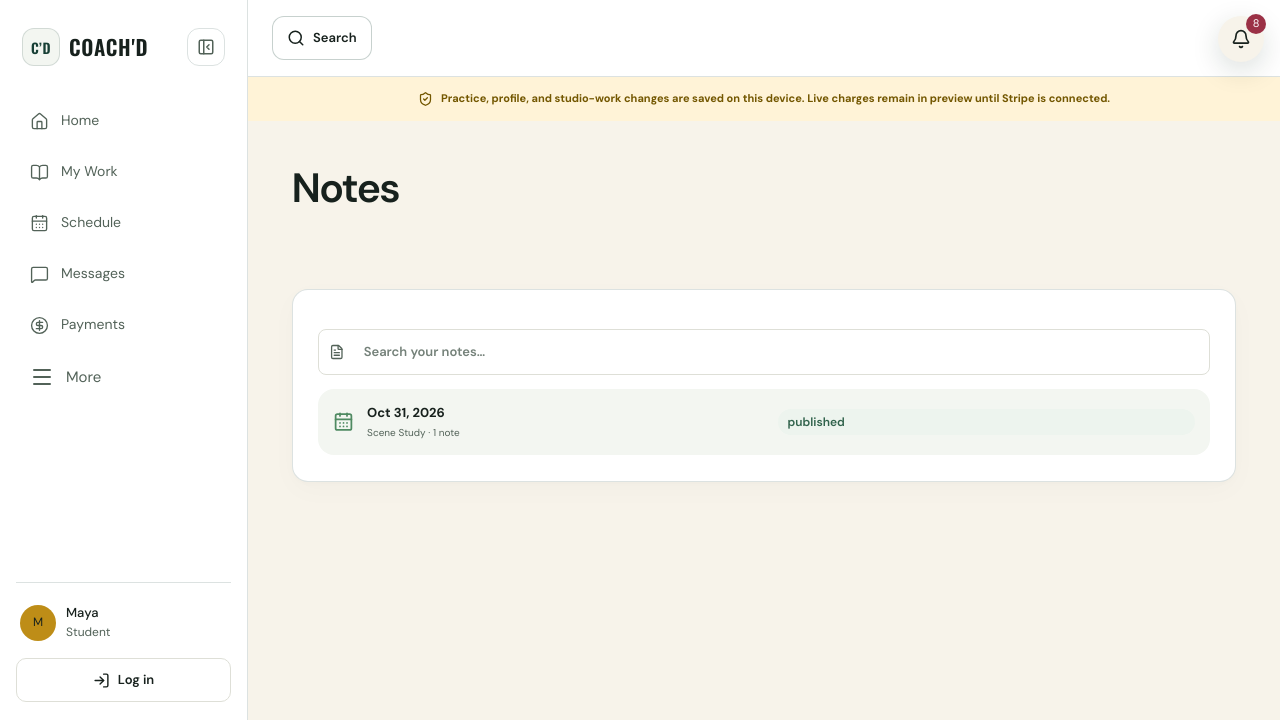
Test: content disclosure and decision context › shows the complete note immediately in a requested note dialog
The image size is (1280, 720).
Click the button "Oct 31, 2026 Scene Study · 1 note published" at (406, 413), box [318,389,1210,455]
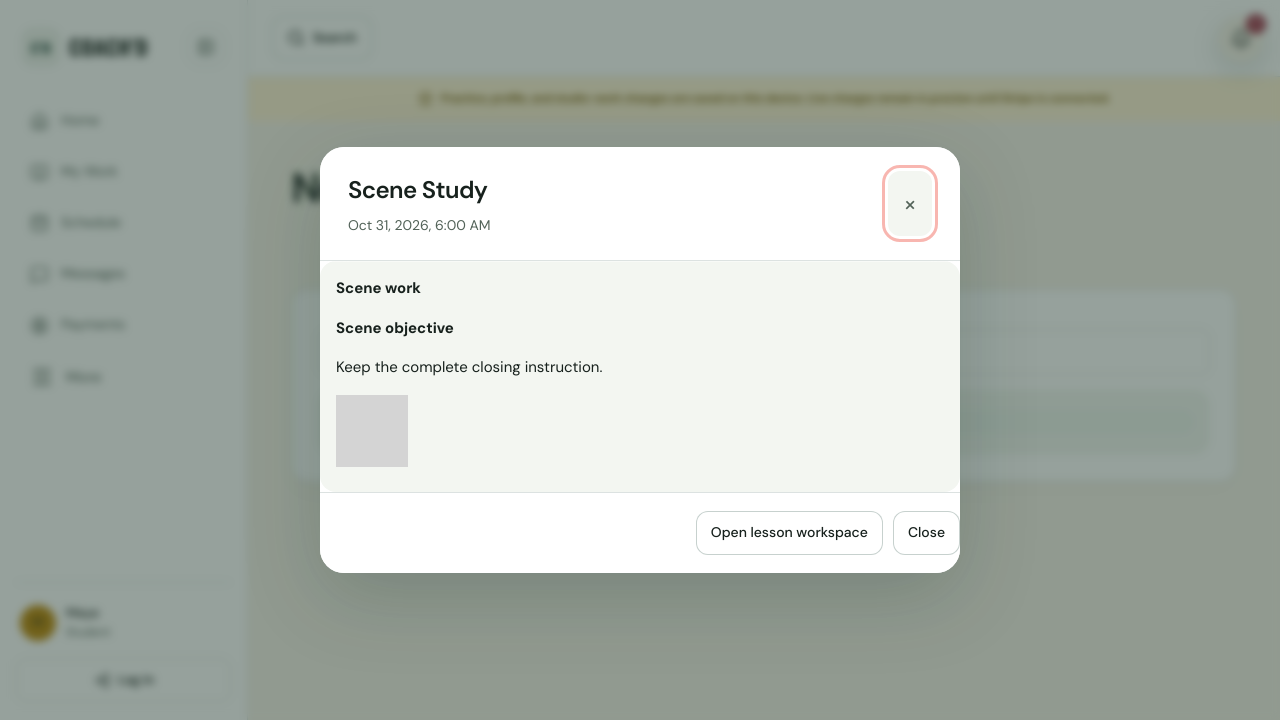
expect the text "Keep the complete closing instruction." is shown: met, box [336,357,602,377]
Press Escape
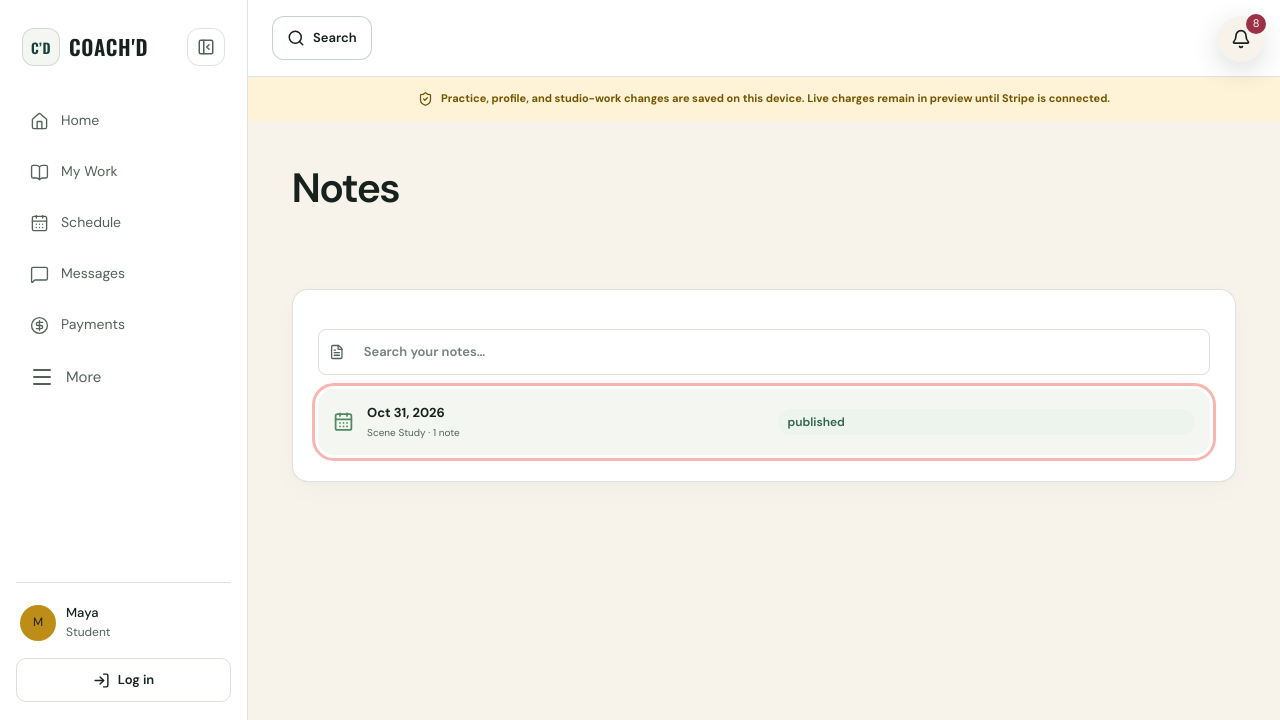
expect the dialog is gone: met
